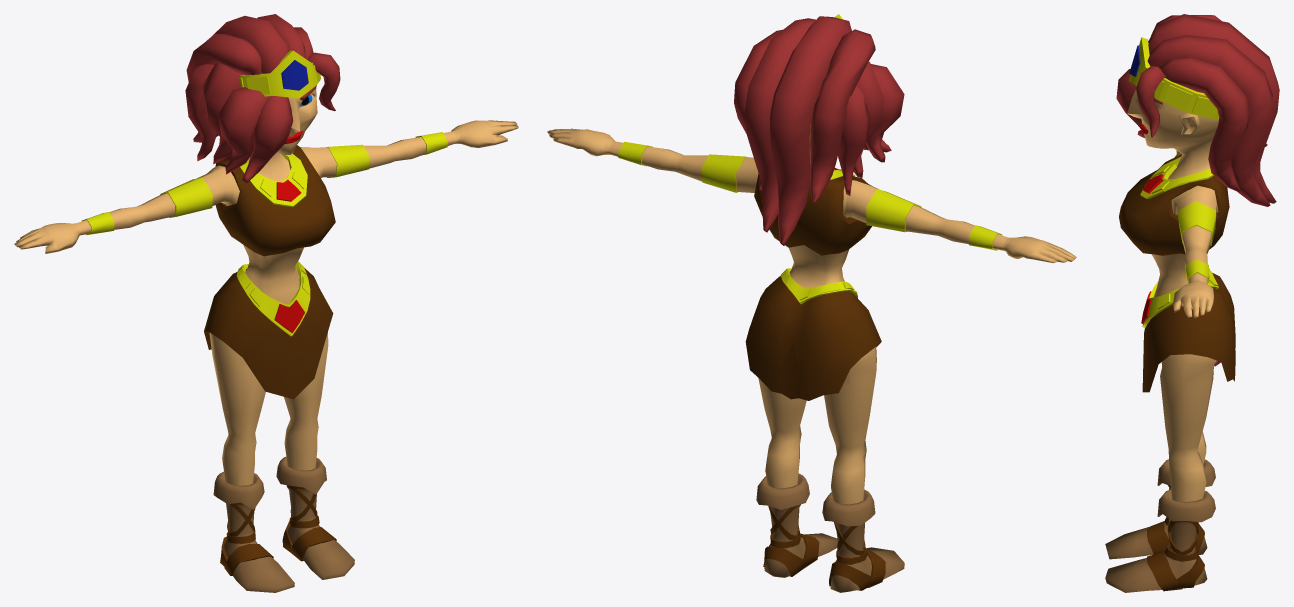
Rendered from Lowpoly-Barbarian-girl.FBX.
3 renders of one model, left to right at view 1: azimuth 30°, elevation 25°; view 2: azimuth 150°, elevation 25°; view 3: azimuth 270°, elevation 25°, orthographic. The views are drawn at different scales.
Parts seen in each view (by area): view 1: Full body T-Pose; view 2: Full body T-Pose; view 3: Full body T-Pose.
Boxes of the visible parts, <box> form: Full body T-Pose: <box>14,14,518,592</box>; Full body T-Pose: <box>547,14,1076,592</box>; Full body T-Pose: <box>1105,14,1279,592</box>.
Bounding box in the file's own units: 85.6 × 87.56 × 25.41.
Materials: 1 (1 with a texture image).
